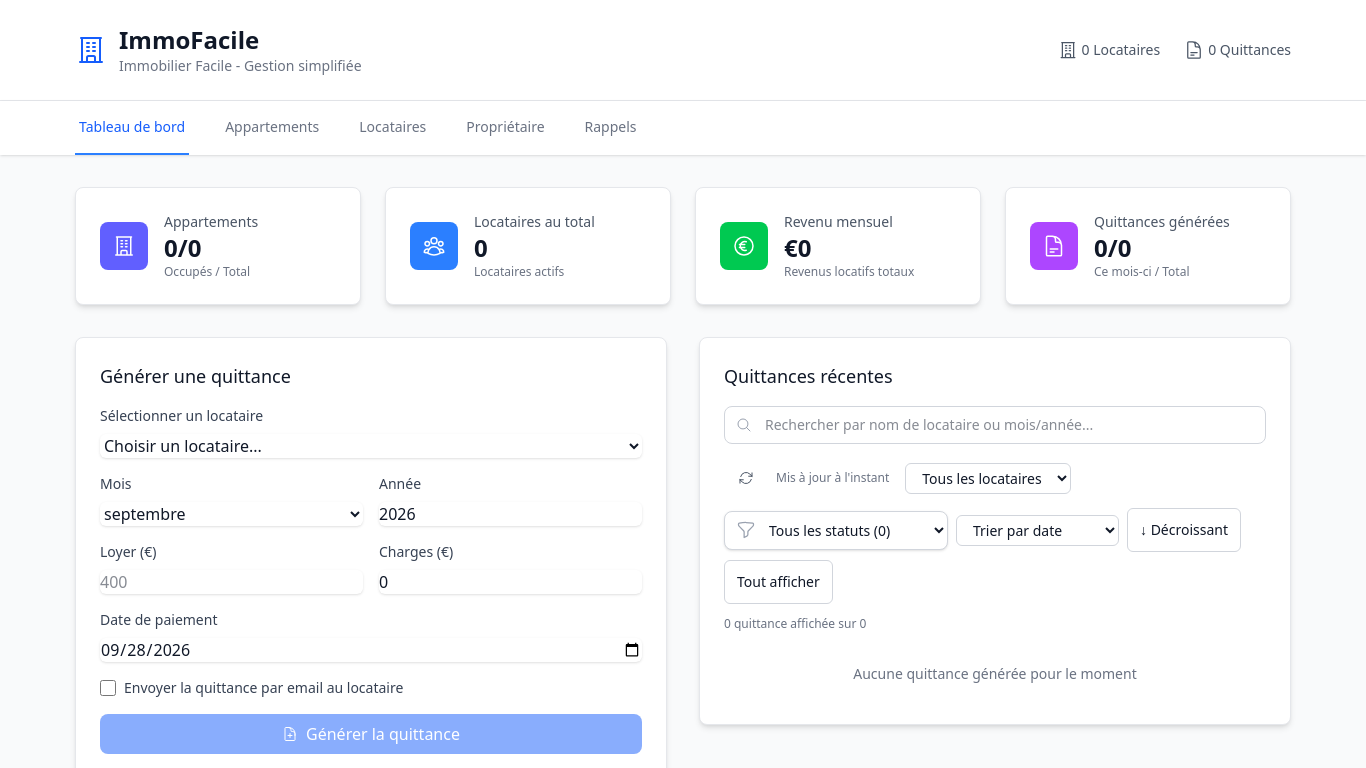
Test: Dashboard navigation (French chrome) › renders the reminders page from the Rappels tab
Click the link "Rappels": (611, 126) [585,117,637,136]
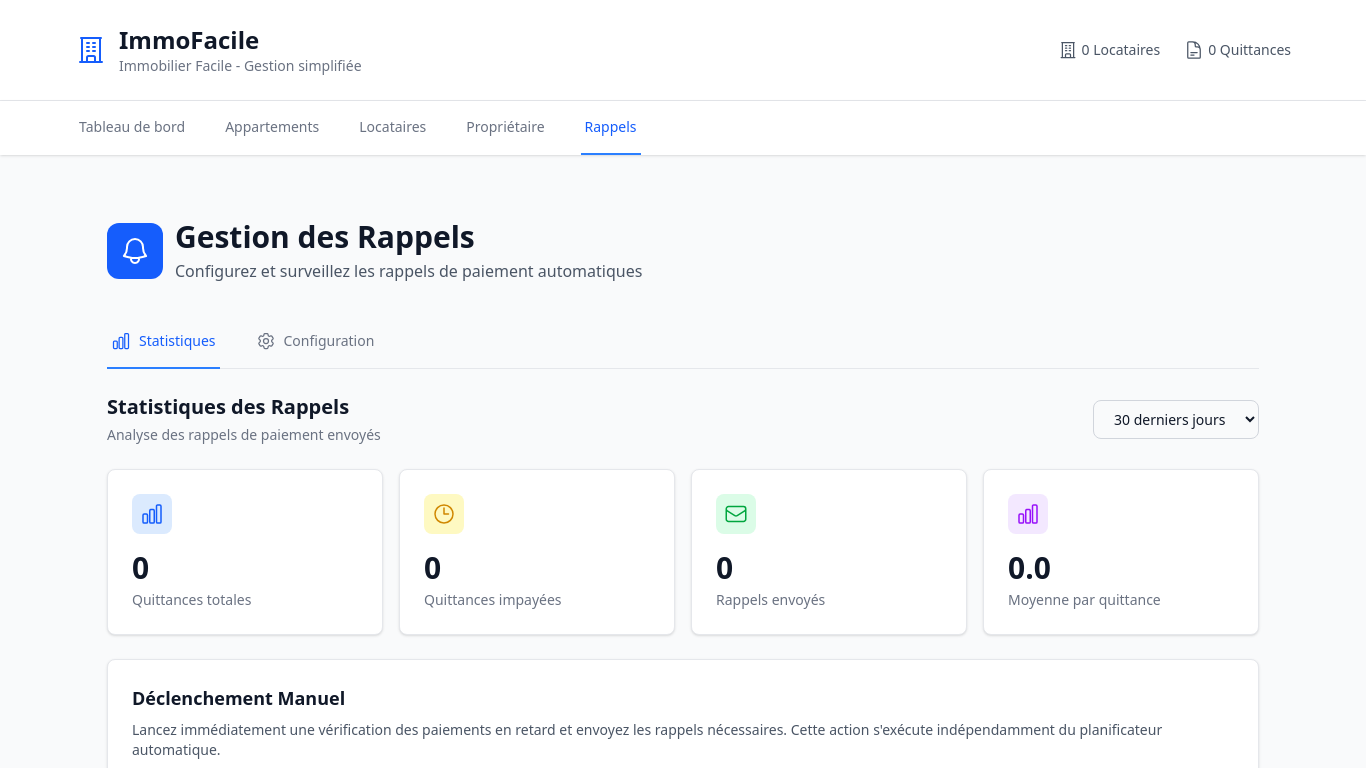
Result: the heading "Gestion des Rappels" is shown at [175,216,475,257]
Result: the button "Statistiques" is shown at [107,315,220,369]
Result: the button "Configuration" is shown at [252,315,378,369]
